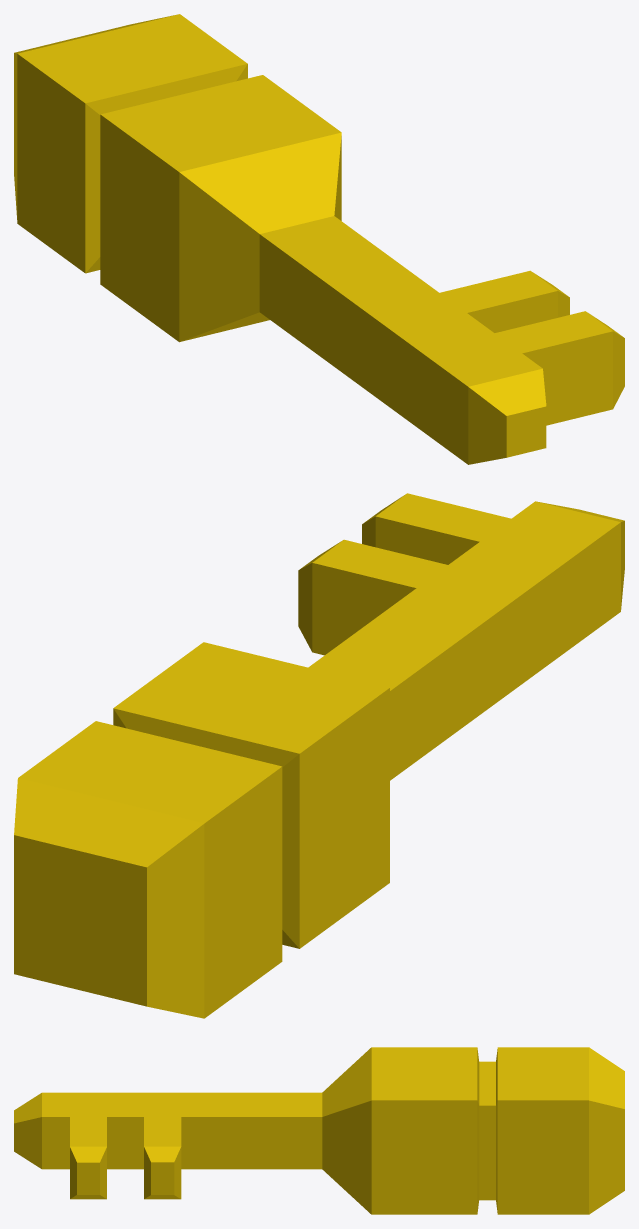
File: key.glb
The picture shows the model from 3 angles, top to bottom: view 1: azimuth 30°, elevation 25°; view 2: azimuth 150°, elevation 25°; view 3: azimuth 270°, elevation 25°; orthographic projection. The views are drawn at different scales.
Visible parts, largest first — view 1: Cube; view 2: Cube; view 3: Cube.
Boxes of the visible parts, x1,y1,x2,y2 form: Cube: (14, 14, 624, 464); Cube: (14, 493, 624, 1018); Cube: (14, 1047, 624, 1214).
Bounding box in the file's own units: 1.19 × 0.85 × 4.12.
